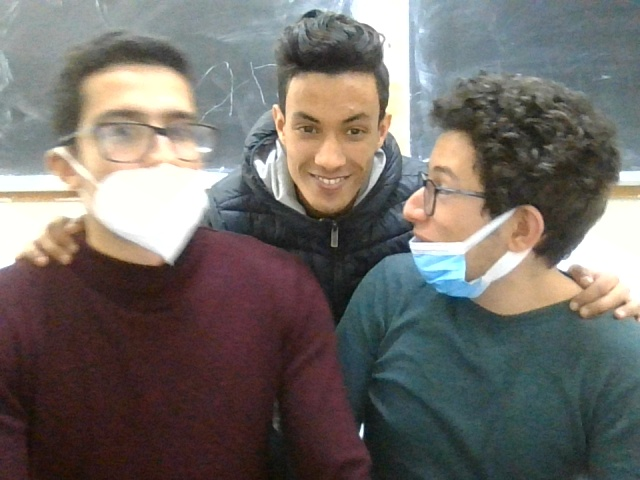mask_weared_incorrect: (397, 75, 613, 314)
without_mask: (267, 20, 395, 215)
